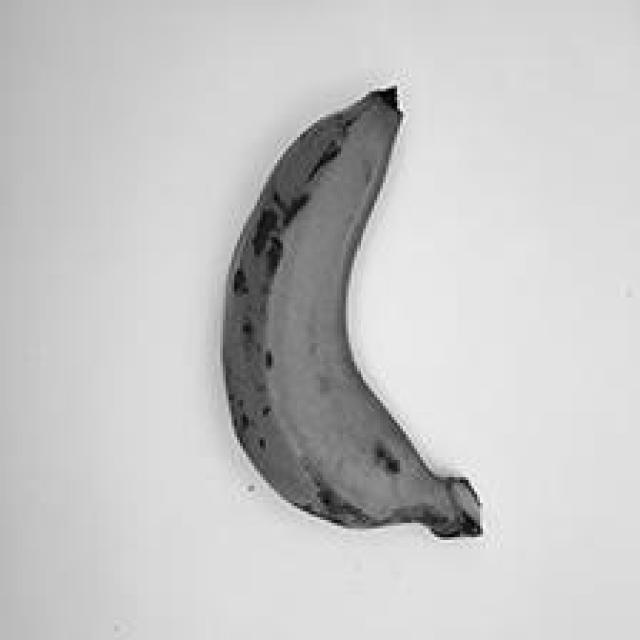Raw: (195, 61, 513, 572)
